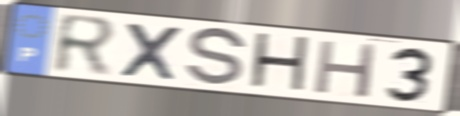3: (383, 46, 436, 104)
H: (311, 37, 380, 100), (247, 30, 312, 96)
R: (50, 12, 121, 79)
S: (183, 26, 250, 90)
X: (118, 20, 185, 84)
